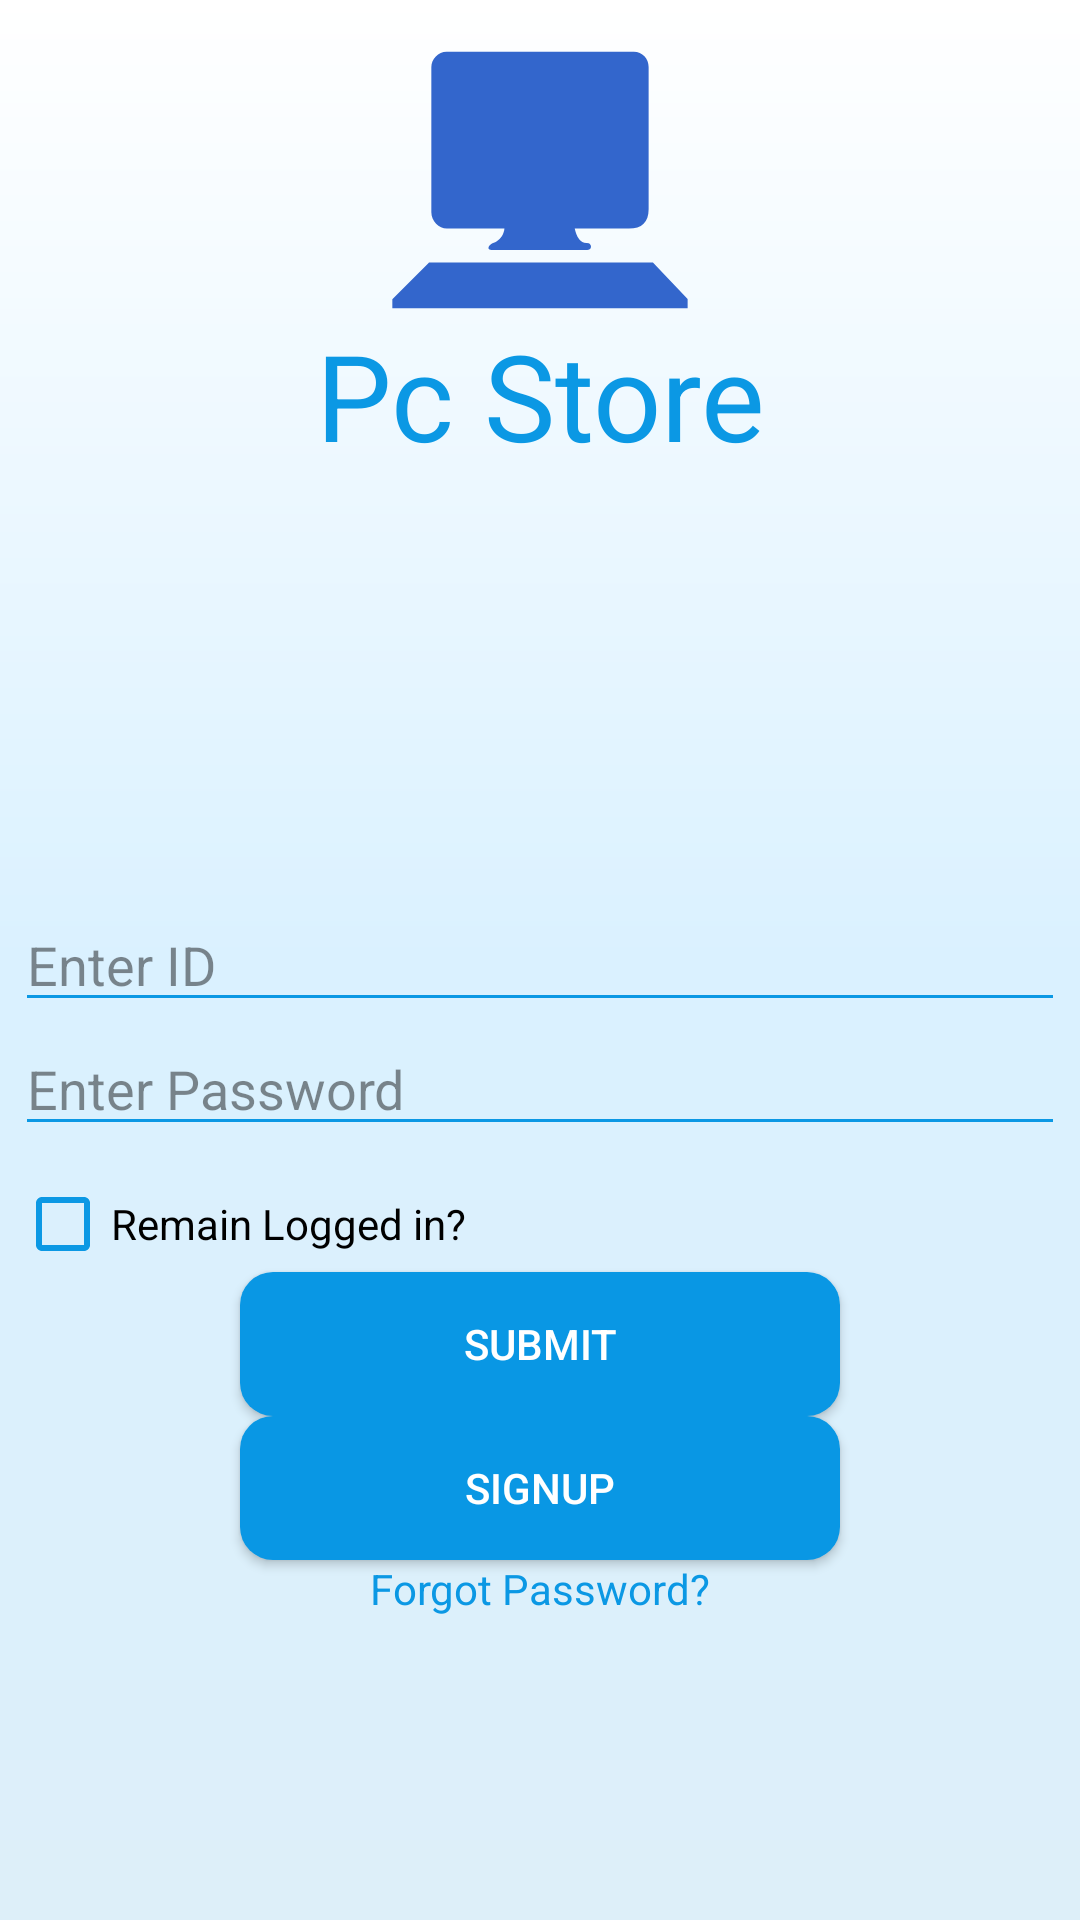

Named icons in this screenshot (1080 x 1920) and their bounding boxes, detection(x1, y1, x2, y2):
computer: detection(392, 51, 688, 309)
